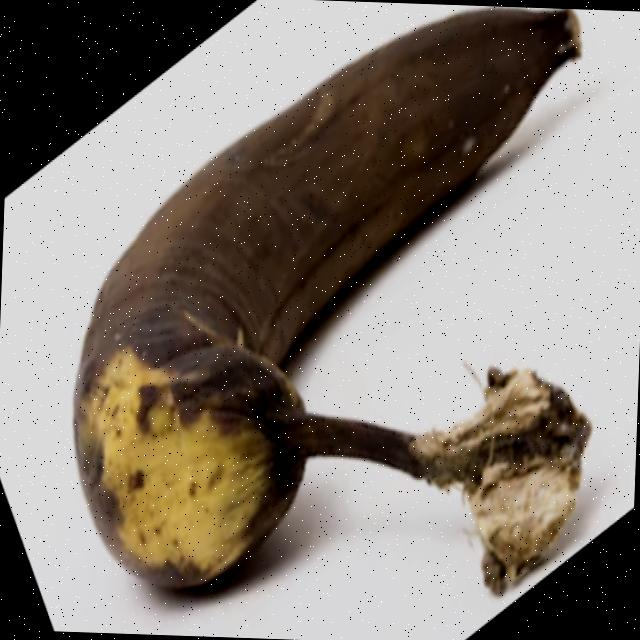Rotten: (50, 0, 615, 640)
